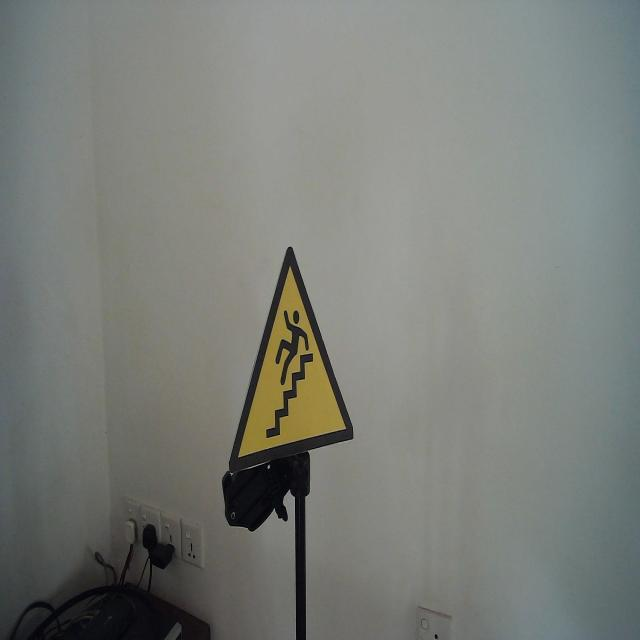stairs: (228, 244, 356, 476)
